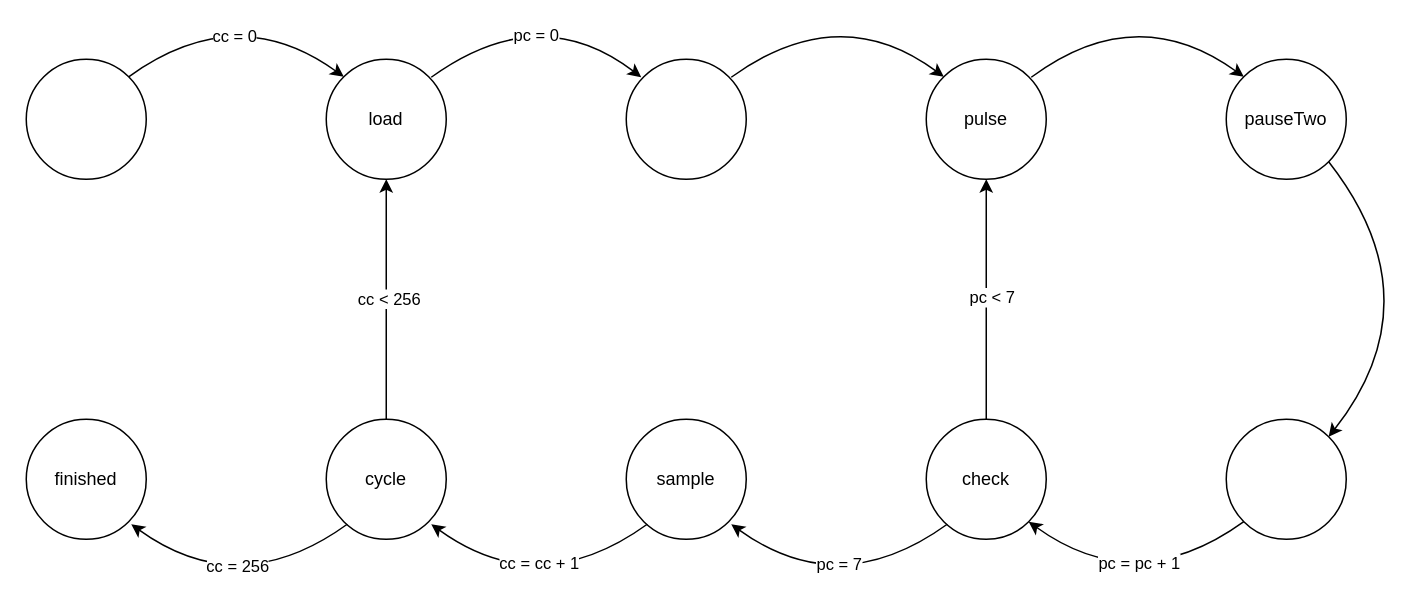
This 1412x603 diagram has some shape labels left out. The shapes that lost their labels are listed below. From the top down, each one's box as (x1, y1, x2, y2) in pixels, then its label:
(25, 58, 146, 179): start
(625, 58, 746, 179): pauseOne
(1225, 418, 1346, 539): vote
